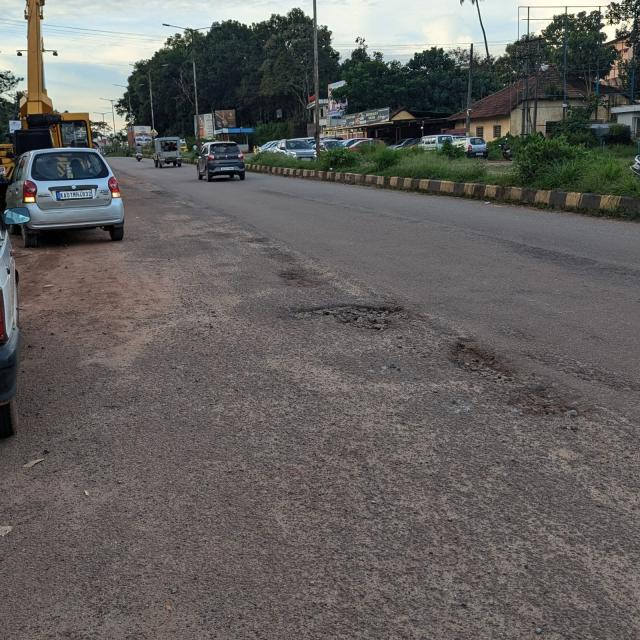pothole: (287, 297, 413, 336), (444, 335, 518, 383), (267, 263, 343, 295), (510, 387, 580, 421)
